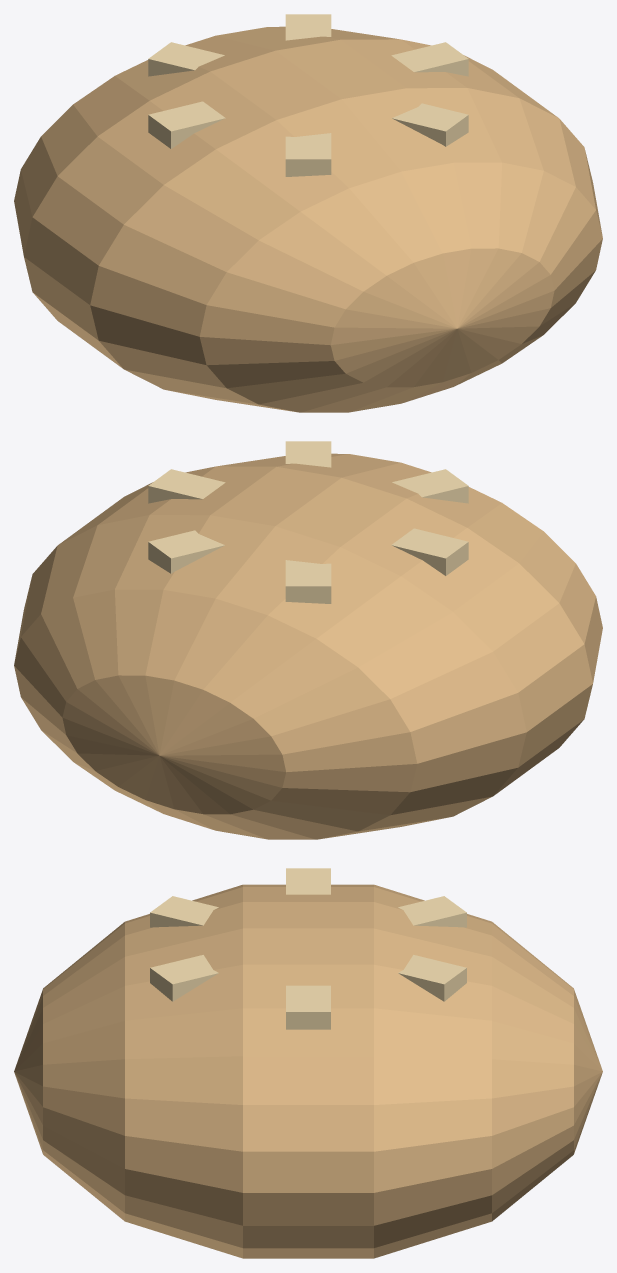
File: item_bread.glb
3 views of the same model, one above another, from view 1: azimuth 30°, elevation 25°; view 2: azimuth 150°, elevation 25°; view 3: azimuth 270°, elevation 25° (orthographic).
Visible parts, largest first — view 1: crust, crumb; view 2: crust, crumb; view 3: crust, crumb.
Boxes of the visible parts, left/top/right/bottom form: crust: left=14, top=26, right=602, bottom=412; crumb: left=148, top=14, right=468, bottom=176; crust: left=14, top=453, right=602, bottom=839; crumb: left=148, top=441, right=468, bottom=603; crust: left=14, top=884, right=602, bottom=1258; crumb: left=150, top=868, right=466, bottom=1029.
Bounding box in the file's own units: 0.2535 × 0.1394 × 0.26.
